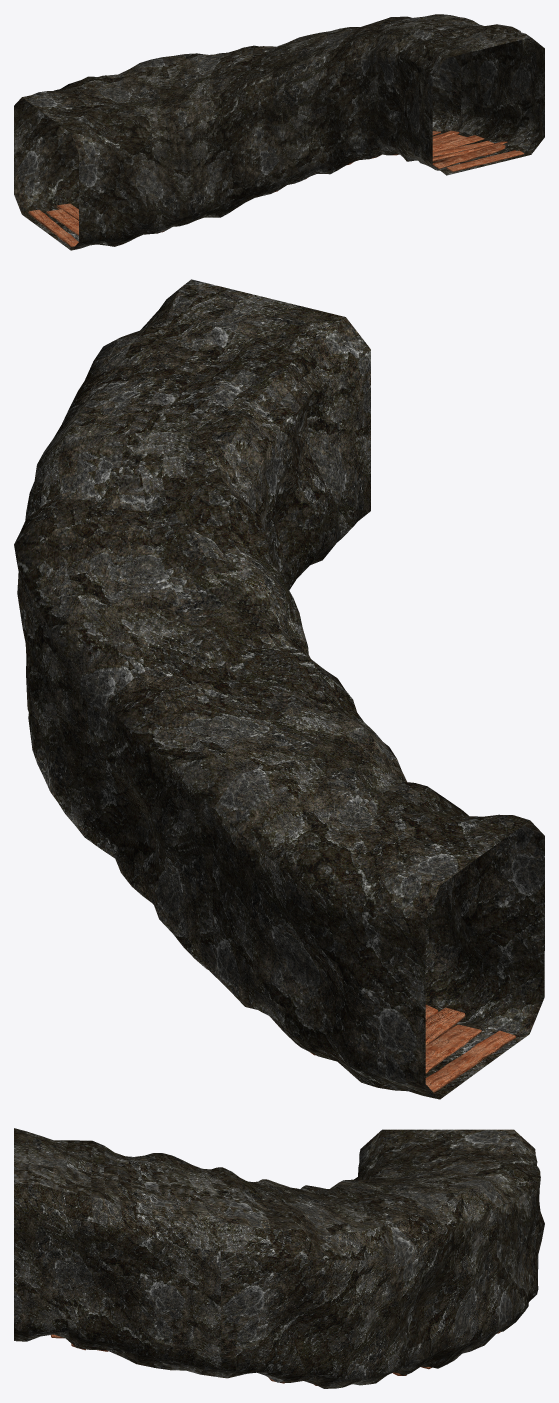
Rendered from Cave_058.fbx.
The picture shows the model from 3 angles, top to bottom: view 1: azimuth 30°, elevation 25°; view 2: azimuth 150°, elevation 25°; view 3: azimuth 270°, elevation 25°; orthographic projection. The views are drawn at different scales.
Visible parts, largest first — view 1: Cave.058; view 2: Cave.058; view 3: Cave.058.
Part boxes in pixels (x1,y1,x2,y2): Cave.058: (14, 14, 544, 250); Cave.058: (14, 279, 544, 1099); Cave.058: (14, 1128, 544, 1388).
Bounding box in the file's own units: 914 × 612 × 917.
